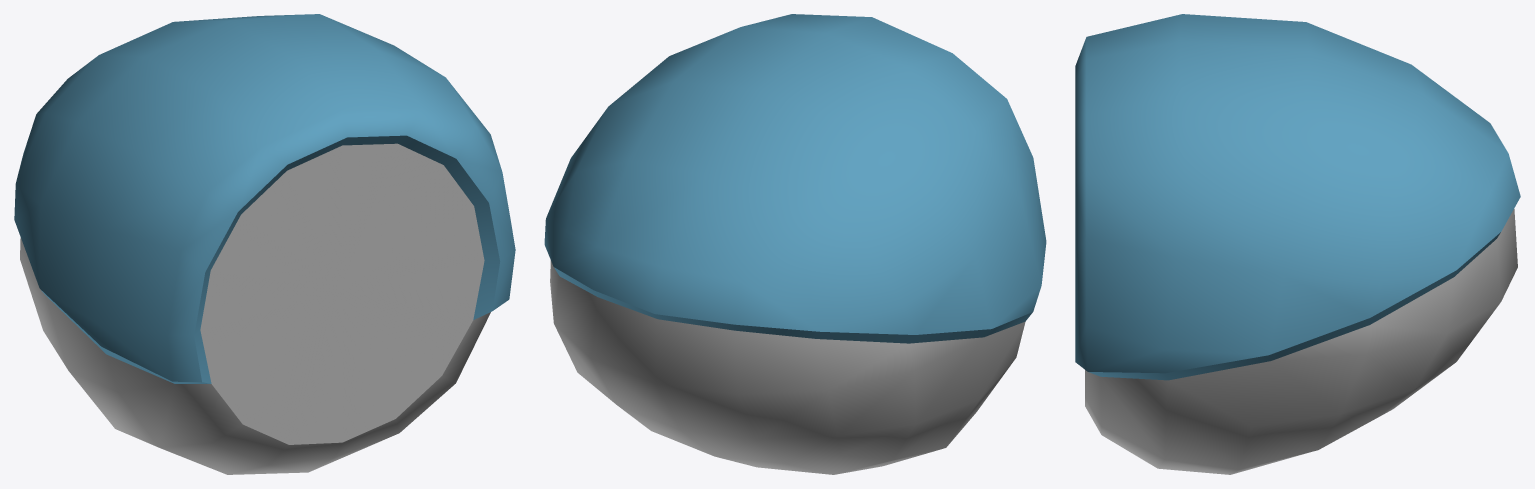
File: head.glb
3 renders of one model, left to right at view 1: azimuth 30°, elevation 25°; view 2: azimuth 150°, elevation 25°; view 3: azimuth 270°, elevation 25°, orthographic.
Parts seen in each view (by area): view 1: pCube15; view 2: pCube15; view 3: pCube15.
Boxes of the visible parts, x1,y1,x2,y2 form: pCube15: [14, 14, 515, 474]; pCube15: [544, 14, 1046, 474]; pCube15: [1075, 14, 1520, 474].
Size of the model in its own units: 0.687 by 0.6325 by 0.6298.
